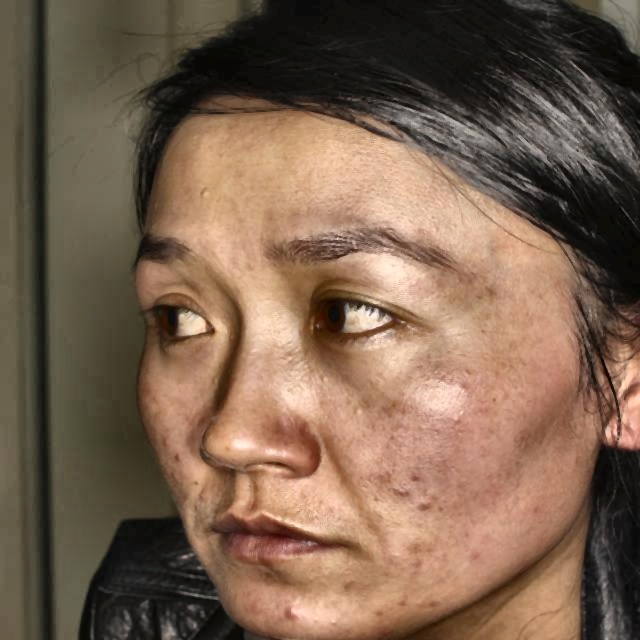comedone: (415, 494, 451, 518), (279, 597, 305, 624)
